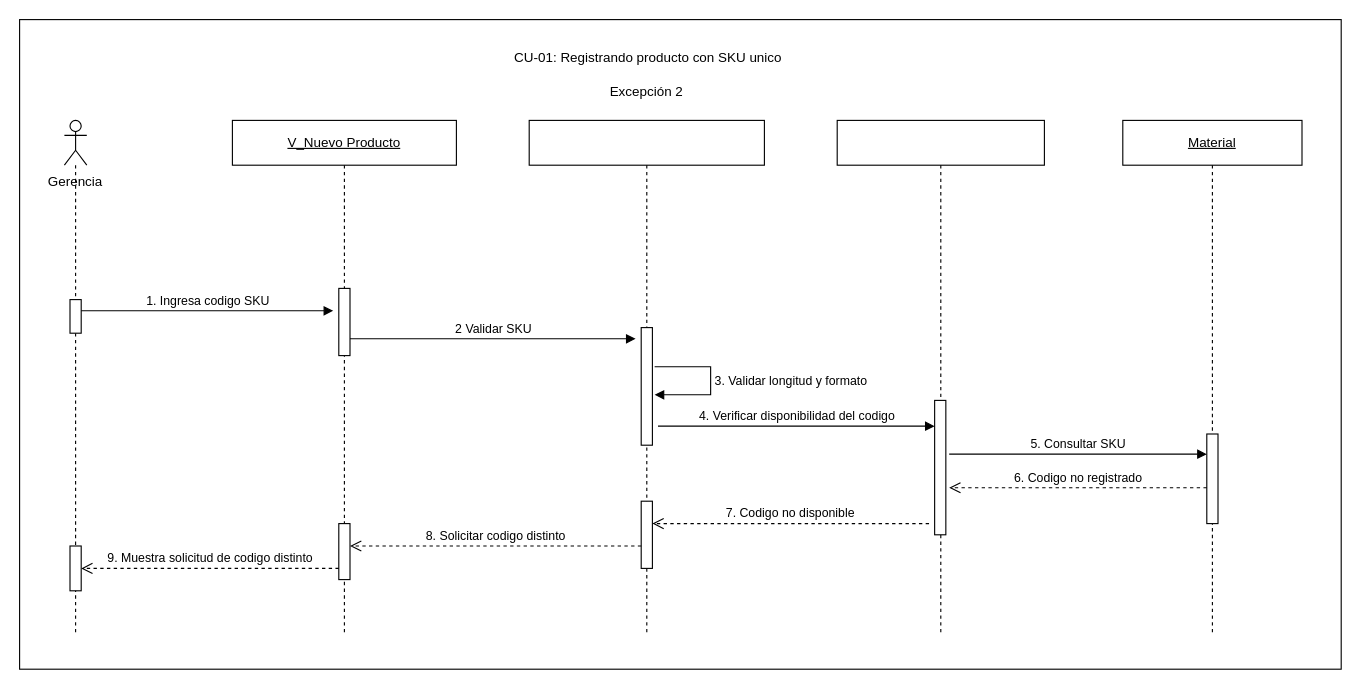
This 1361x689 diagram has some shape labels left out. The box of each missing label's shape, as (x1, y1, x2, y2) in pixels:
C_ Postgre: (836, 119, 1044, 636)
C_materiales: (528, 119, 764, 636)
